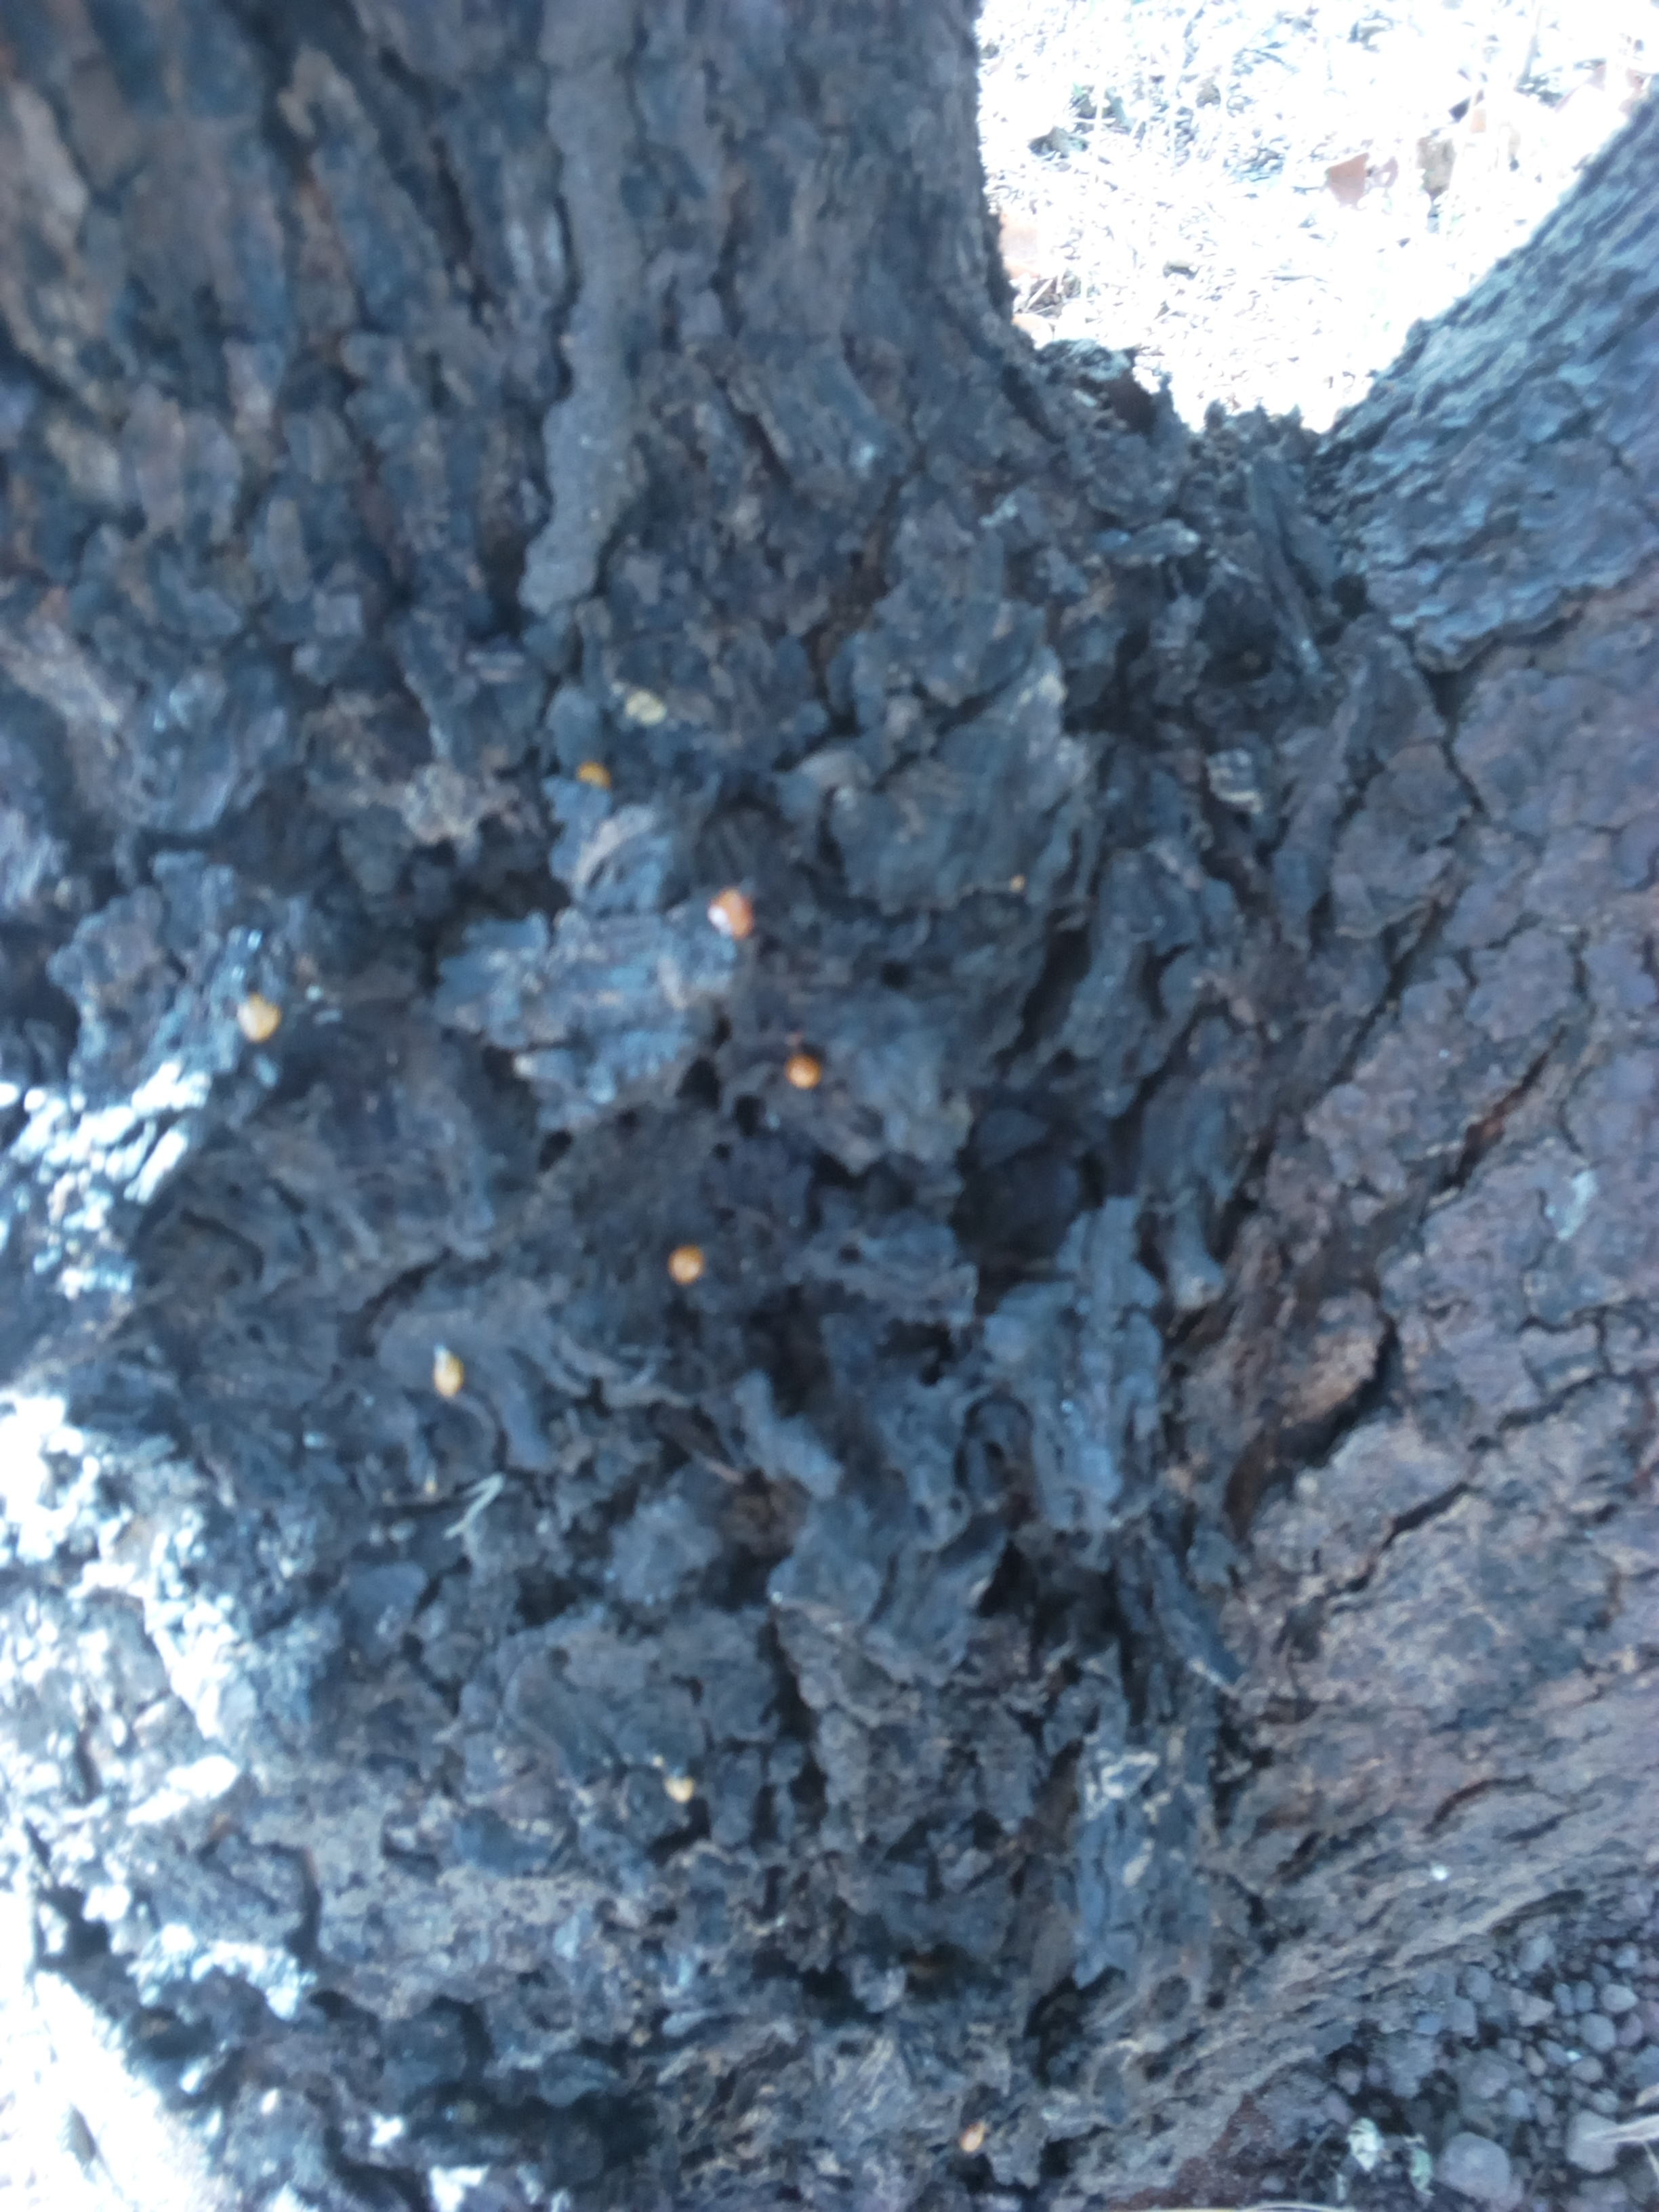Gommose: (528, 611, 1182, 1888)
